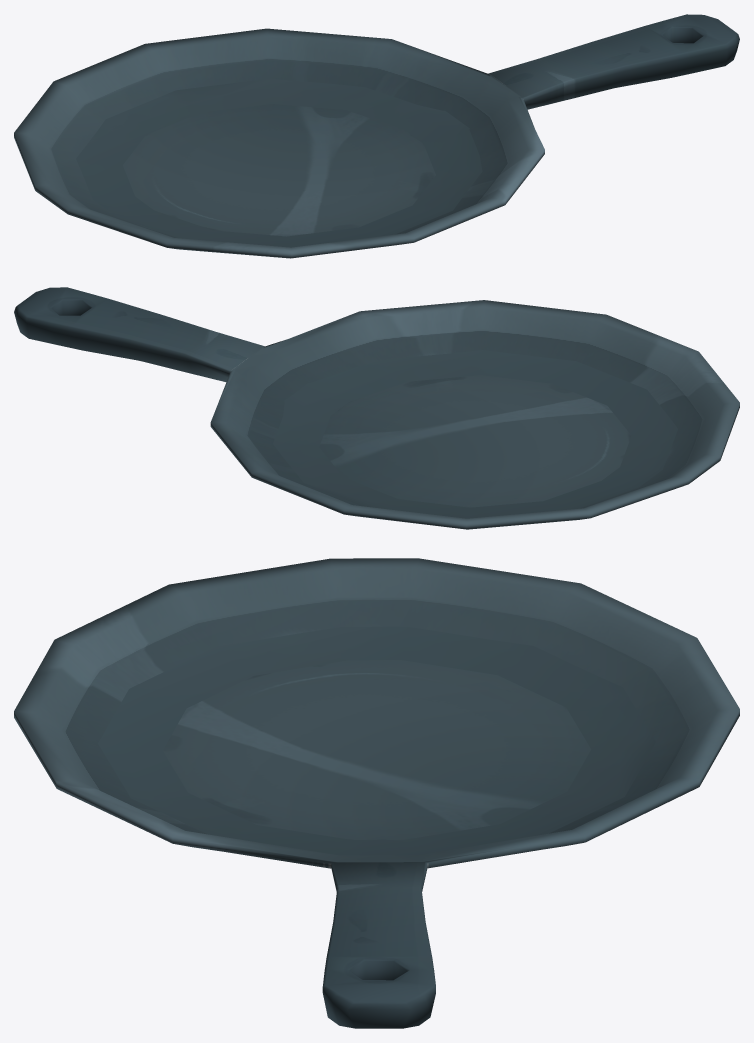
File: PanSmall.fbx
3 views of the same model, one above another, from view 1: azimuth 30°, elevation 25°; view 2: azimuth 150°, elevation 25°; view 3: azimuth 270°, elevation 25° (orthographic). The views are drawn at different scales.
Parts seen in each view (by area): view 1: PanSmall; view 2: PanSmall; view 3: PanSmall.
Part boxes in pixels (box(x1,y1,x2,y2)): PanSmall: box(14, 14, 739, 258); PanSmall: box(14, 287, 739, 529); PanSmall: box(14, 558, 739, 1028).
Size of the model in its own units: 58.49 by 3.21 by 39.72.
